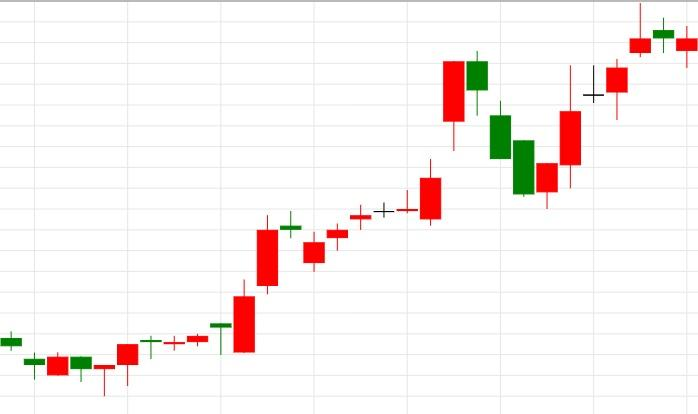shooting_star_fall: (536, 2, 651, 209)
